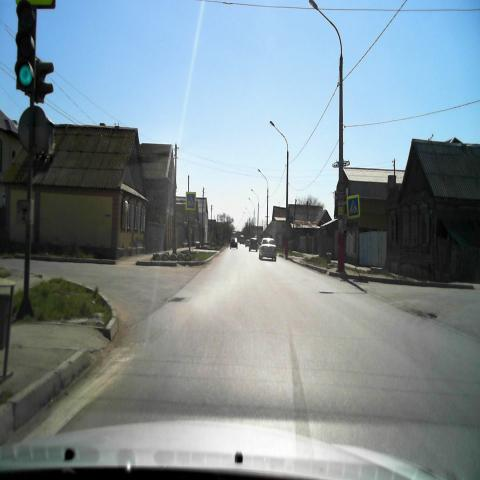5_19_1: (185, 191, 196, 211)
